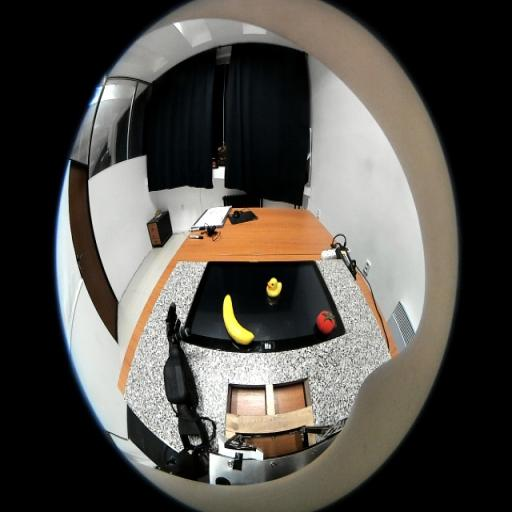Banana: (222, 294, 255, 345)
Duck: (267, 277, 282, 297)
LeftHand: (166, 323, 180, 344)
Tomato: (316, 310, 336, 334)
